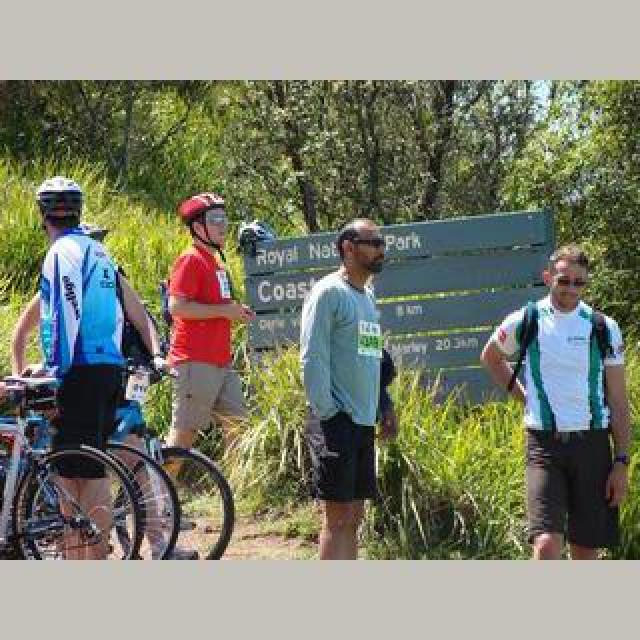MC-Bike: (8, 178, 164, 548), (482, 240, 630, 558), (300, 214, 394, 556), (160, 192, 258, 472)
Person: (0, 378, 136, 560), (116, 361, 236, 565)
